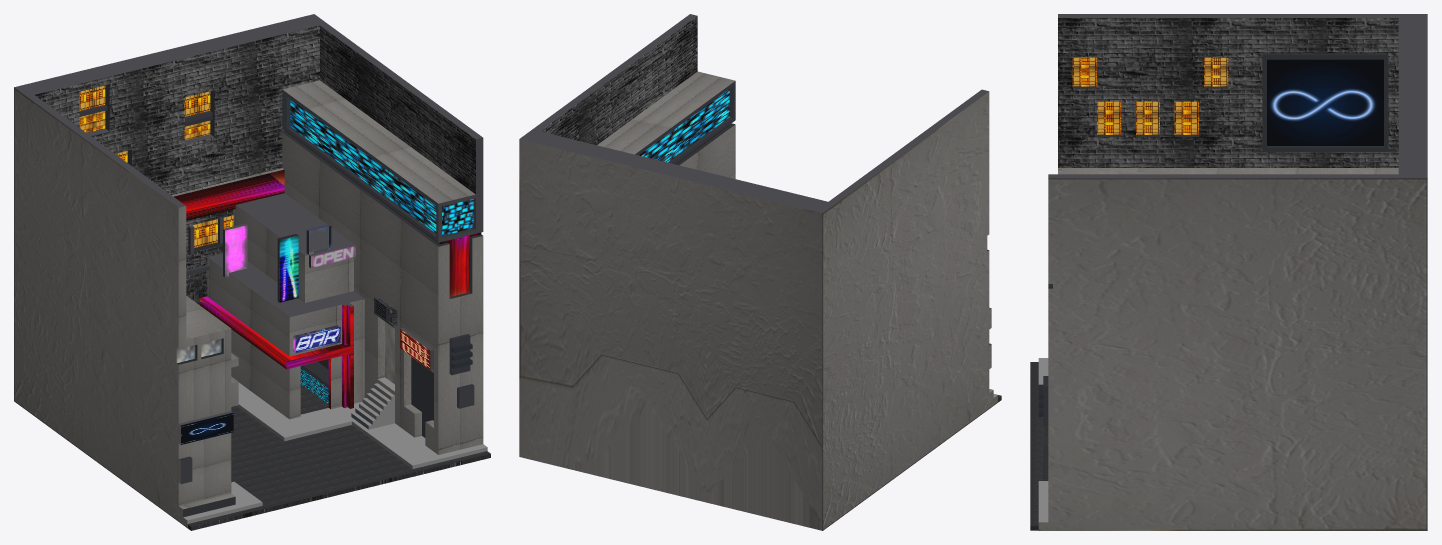
Rendered from alley.glb.
3 renders of one model, left to right at view 1: azimuth 30°, elevation 25°; view 2: azimuth 150°, elevation 25°; view 3: azimuth 270°, elevation 25°, orthographic. The views are drawn at different scales.
Parts seen in each view (by area): view 1: Object_2, Object_21, Object_14, Object_15, Object_17, Object_16, Object_3, Object_6, Object_8, Object_12, Object_18, Object_19 (+4 smaller); view 2: Object_2, Object_21, Object_14, Object_6, Object_3; view 3: Object_2, Object_21, Object_9, Object_14, Object_8, Object_3, Object_15, Object_16.
Boxes of the visible parts, x1=… form: Object_2: x1=14, y1=80, x2=483, y2=527; Object_21: x1=35, y1=25, x2=475, y2=304; Object_14: x1=14, y1=14, x2=483, y2=425; Object_15: x1=187, y1=384, x2=490, y2=530; Object_17: x1=174, y1=131, x2=481, y2=408; Object_16: x1=183, y1=377, x2=487, y2=527; Object_3: x1=79, y1=89, x2=482, y2=517; Object_6: x1=290, y1=99, x2=473, y2=403; Object_8: x1=79, y1=85, x2=233, y2=247; Object_12: x1=181, y1=265, x2=474, y2=484; Object_18: x1=279, y1=235, x2=298, y2=302; Object_19: x1=225, y1=225, x2=339, y2=352; Object_2: x1=519, y1=71, x2=997, y2=530; Object_21: x1=540, y1=16, x2=697, y2=145; Object_14: x1=519, y1=14, x2=991, y2=309; Object_6: x1=639, y1=89, x2=729, y2=162; Object_3: x1=635, y1=81, x2=990, y2=345; Object_2: x1=1038, y1=168, x2=1427, y2=530; Object_21: x1=1058, y1=18, x2=1398, y2=167; Object_9: x1=1267, y1=59, x2=1383, y2=145; Object_14: x1=1048, y1=14, x2=1427, y2=178; Object_8: x1=1072, y1=57, x2=1228, y2=134; Object_3: x1=1038, y1=53, x2=1388, y2=445; Object_15: x1=1030, y1=362, x2=1048, y2=530; Object_16: x1=1038, y1=358, x2=1048, y2=522.
Bounding box in the file's own units: 13.2 × 13.2 × 13.48.
Materials: 19 (19 with a texture image).
